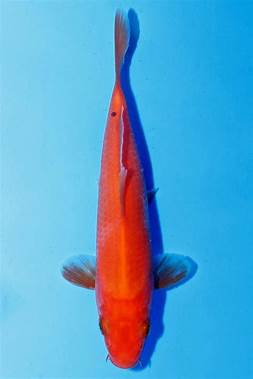red: (63, 7, 196, 368)
